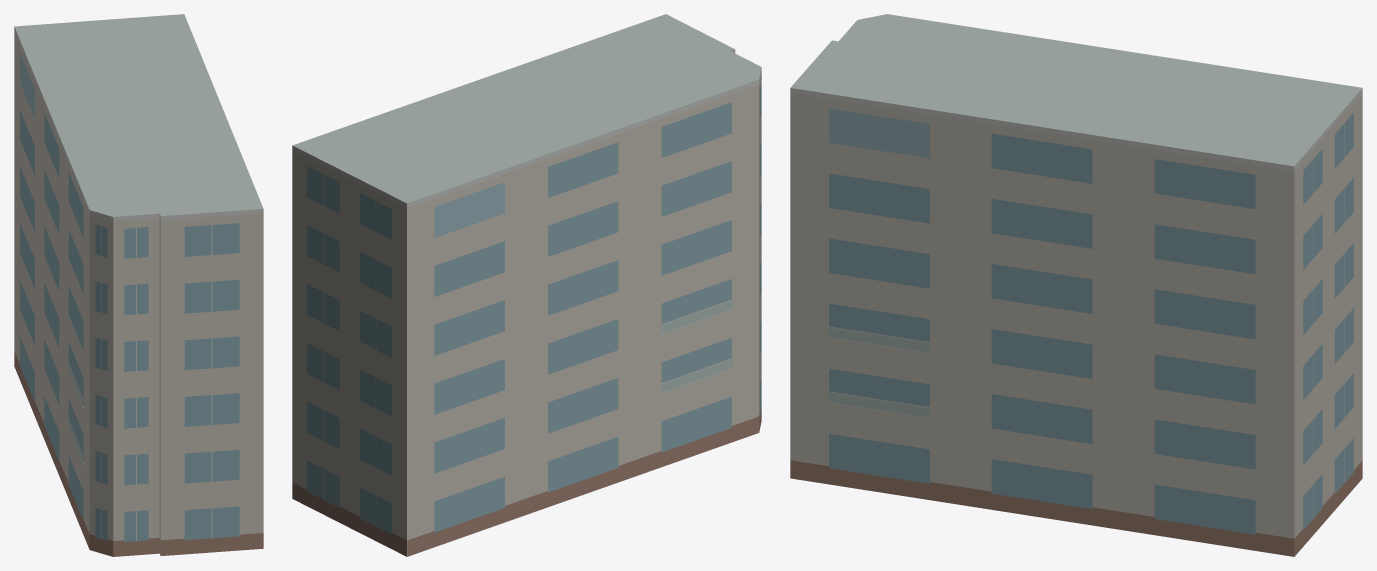
The model's file is survey-upis-32552827.glb.
The picture shows the model from 3 angles, left to right: view 1: azimuth 30°, elevation 25°; view 2: azimuth 150°, elevation 25°; view 3: azimuth 270°, elevation 25°; orthographic projection. The views are drawn at different scales.
Visible parts, largest first — view 1: survey-upis-32552827.tmp; view 2: survey-upis-32552827.tmp; view 3: survey-upis-32552827.tmp.
Boxes of the visible parts, box(x1,y1,x2,y2) form: survey-upis-32552827.tmp: box(14, 14, 263, 556); survey-upis-32552827.tmp: box(292, 14, 761, 556); survey-upis-32552827.tmp: box(790, 14, 1362, 556).
Size of the model in its own units: 15.49 by 18.5 by 24.59.
